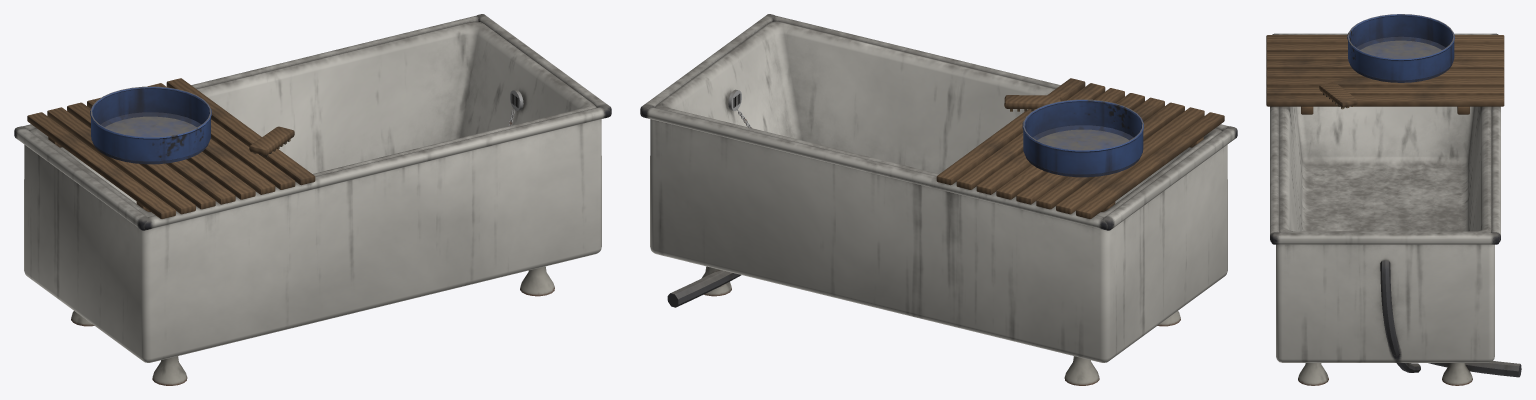
File: SM_Bathtub_CastIron.fbx
3 renders of one model, left to right at view 1: azimuth 30°, elevation 25°; view 2: azimuth 150°, elevation 25°; view 3: azimuth 270°, elevation 25°, orthographic. The views are drawn at different scales.
Parts seen in each view (by area): view 1: SM_Bathtub_CastIron; view 2: SM_Bathtub_CastIron; view 3: SM_Bathtub_CastIron.
Boxes of the visible parts, left/top/right/bottom form: SM_Bathtub_CastIron: left=14, top=14, right=611, bottom=385; SM_Bathtub_CastIron: left=640, top=14, right=1237, bottom=385; SM_Bathtub_CastIron: left=1266, top=14, right=1521, bottom=385.
Bounding box in the file's own units: 1.56 × 0.6951 × 0.8146.
1 material, 1 textured.
